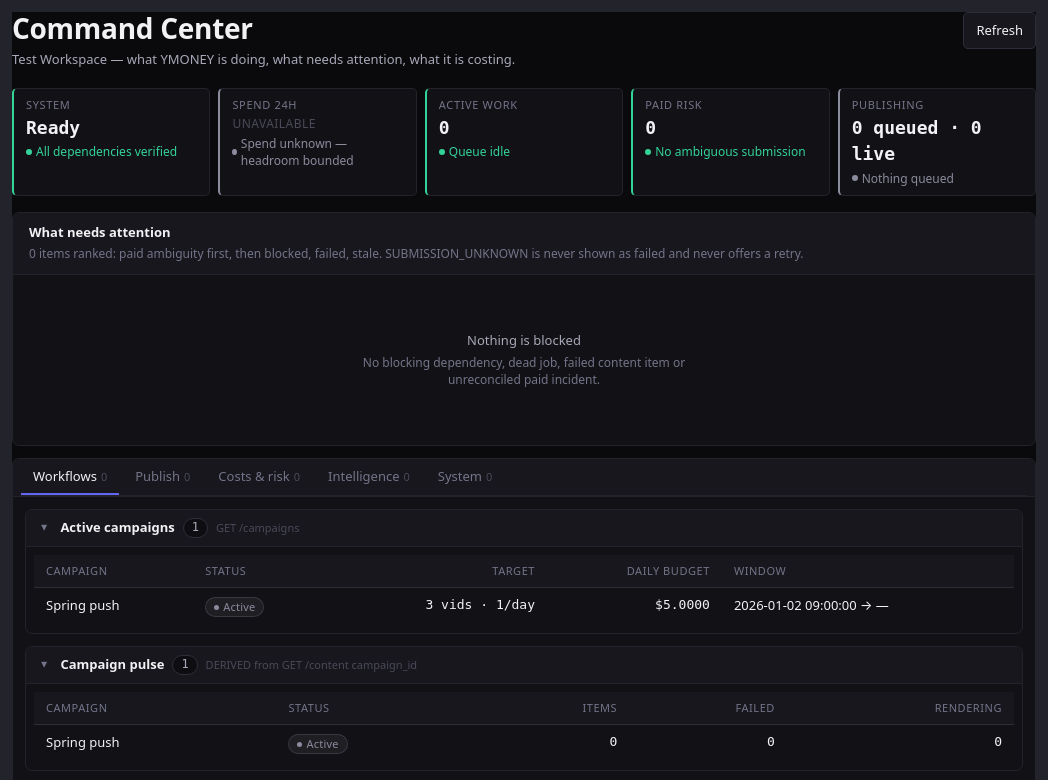
Test case: CommandCenter › renders unpriceable spend as unknown while the budget gate stays real
Click the tab "Costs & risk0". click: click(259, 477)
box: [206,459,312,495]
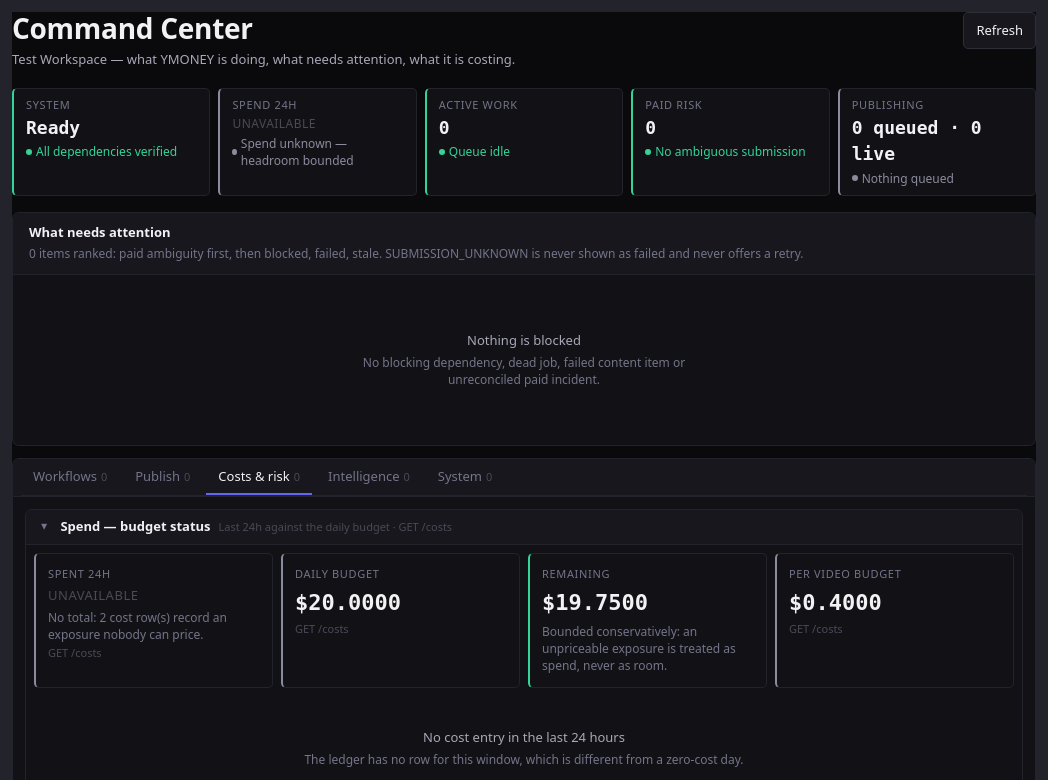
Now the heading "Spend — budget status" is shown, box [60,519,210,535]
Now the text "$19.7500" is shown, box [542,590,648,615]
